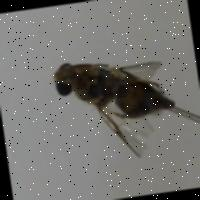Oriental-fruit-fly: (42, 44, 196, 170)
